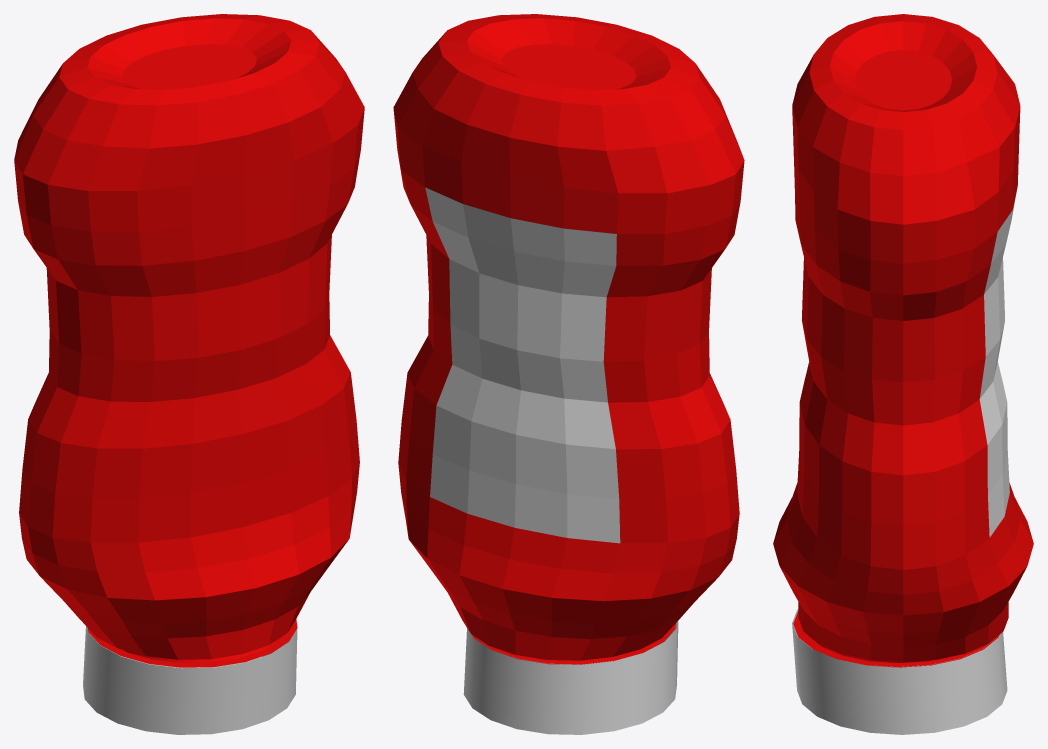
The model's file is Broccoil.fbx.
The picture shows the model from 3 angles, left to right: view 1: azimuth 30°, elevation 25°; view 2: azimuth 150°, elevation 25°; view 3: azimuth 270°, elevation 25°; orthographic projection.
Parts seen in each view (by area): view 1: polySurface46; view 2: polySurface46; view 3: polySurface46.
Part boxes in pixels (left/top/right/bottom): polySurface46: left=14, top=14, right=364, bottom=734; polySurface46: left=393, top=14, right=744, bottom=734; polySurface46: left=773, top=14, right=1033, bottom=734.
Size of the model in its own units: 3.6 by 6.55 by 2.48.
